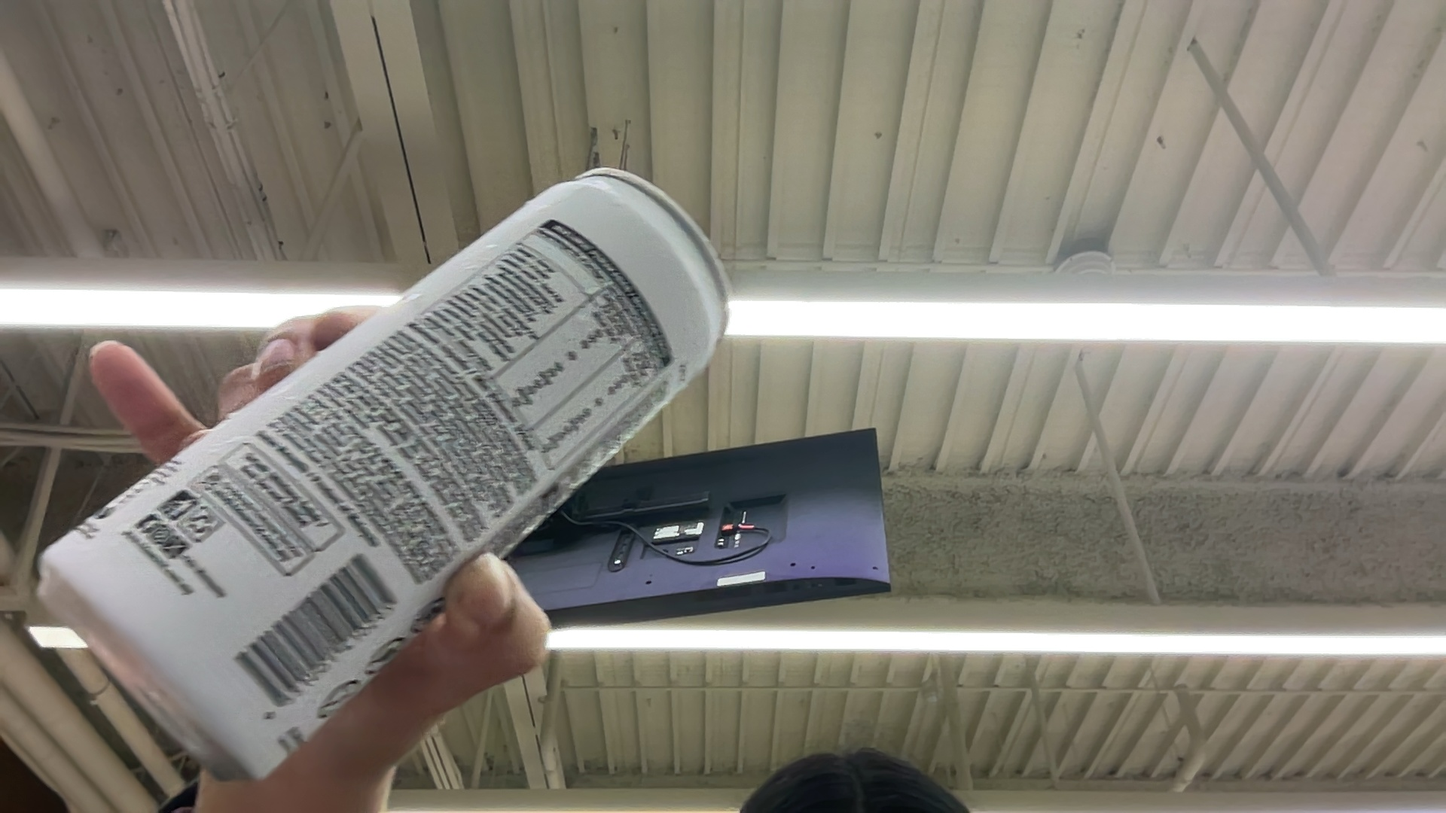Metal: (33, 152, 763, 811)
